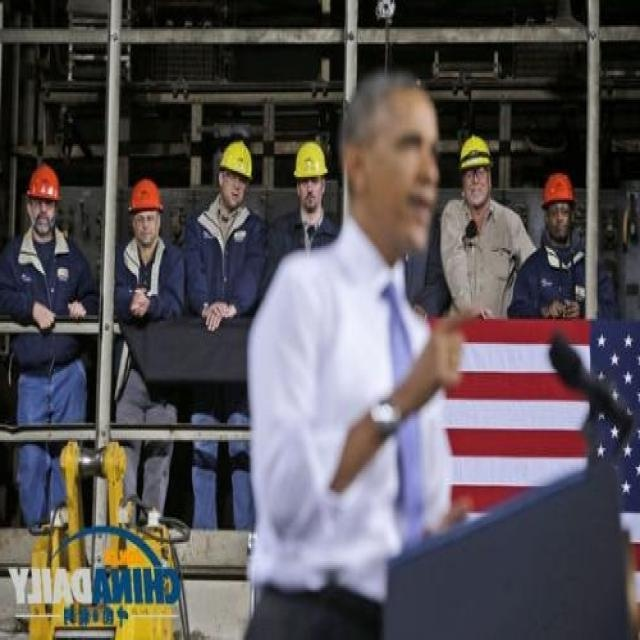Con_Casco: (538, 171, 577, 238), (459, 133, 495, 205), (295, 141, 328, 211)
